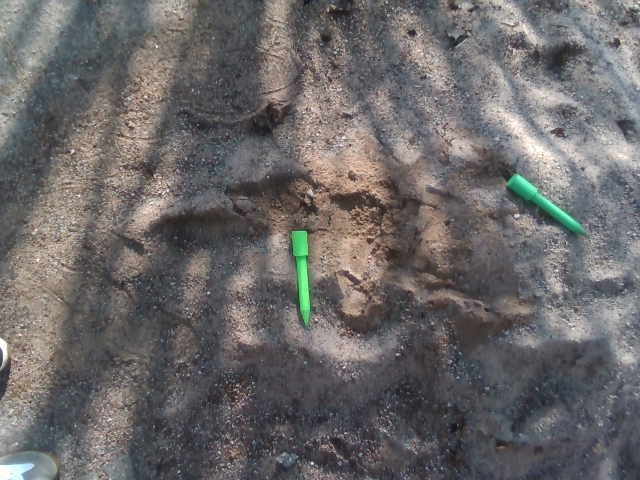Probe: (503, 170, 595, 241), (288, 227, 315, 332)
